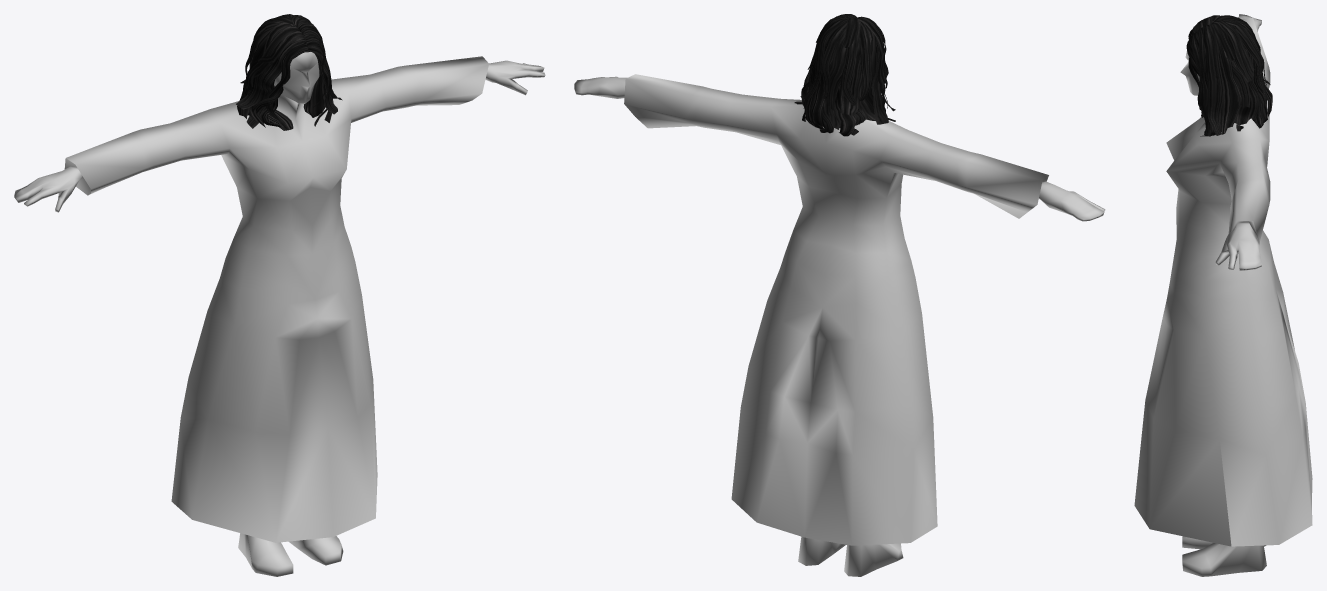
Rendered from Pontianak_C.fbx.
3 views of the same model, side by side, from view 1: azimuth 30°, elevation 25°; view 2: azimuth 150°, elevation 25°; view 3: azimuth 270°, elevation 25° (orthographic).
Parts seen in each view (by area): view 1: Pontianak_C_Low, Hair; view 2: Pontianak_C_Low, Hair; view 3: Pontianak_C_Low, Hair.
Boxes of the visible parts, bbox=[...] form: Pontianak_C_Low: bbox=[14, 52, 545, 576]; Hair: bbox=[236, 14, 342, 130]; Pontianak_C_Low: bbox=[574, 74, 1105, 576]; Hair: bbox=[794, 14, 895, 136]; Pontianak_C_Low: bbox=[1134, 14, 1312, 576]; Hair: bbox=[1186, 15, 1272, 136].
Bounding box in the file's own units: 182 × 177 × 53.39.
